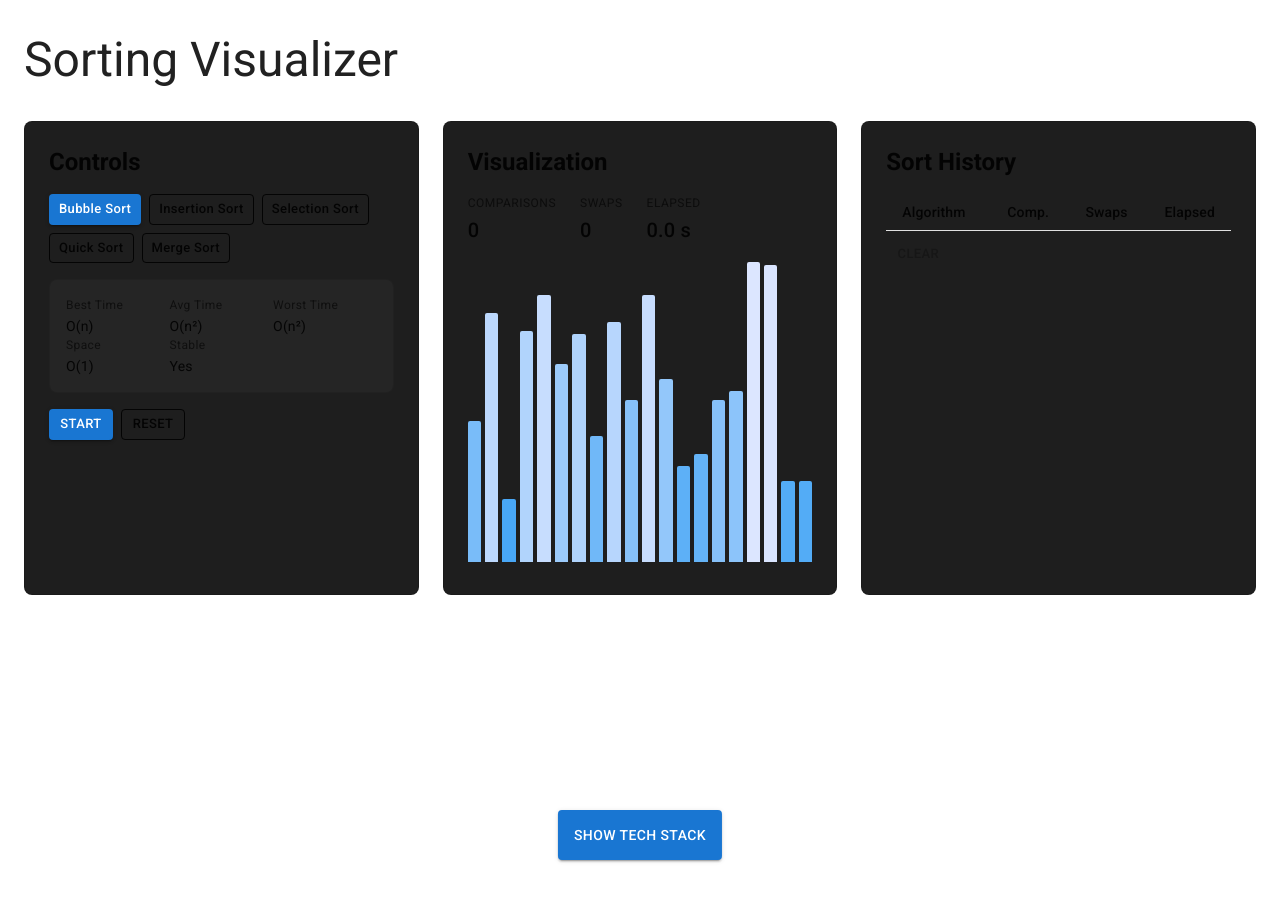
Test: Reset re-randomizes and zeroes metrics
The width and height of the screenshot is (1280, 900).
Click the button "Start". click: (81, 425)
box: x1=49 y1=409 x2=113 y2=440
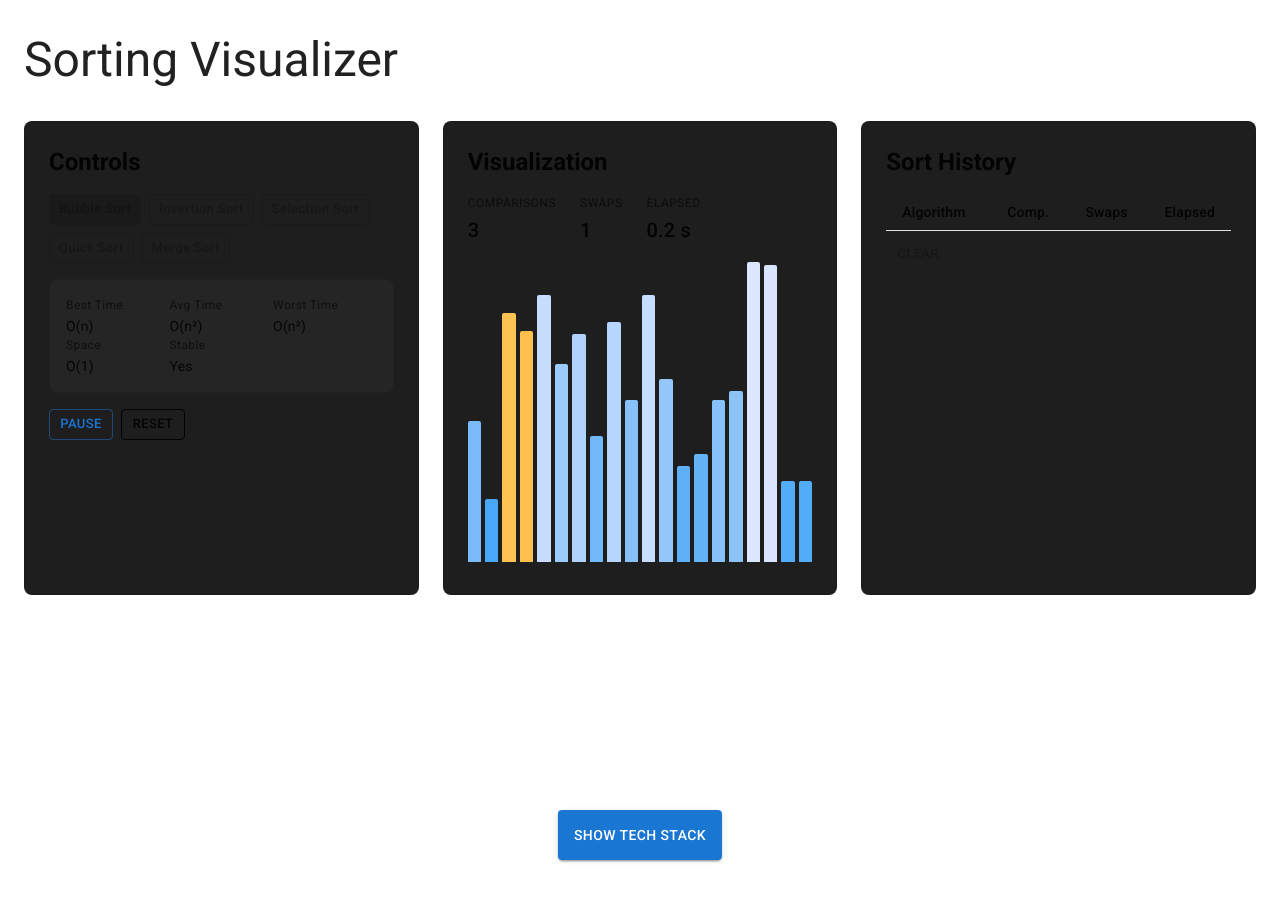
Expected: the heading with test id "metric-comparisons" does not show "0", x1=468 y1=218 x2=479 y2=242
Expected: the heading with test id "metric-swaps" does not show "0", x1=580 y1=218 x2=592 y2=242
Click the button "Reset". click: (153, 425)
box: x1=121 y1=409 x2=185 y2=440
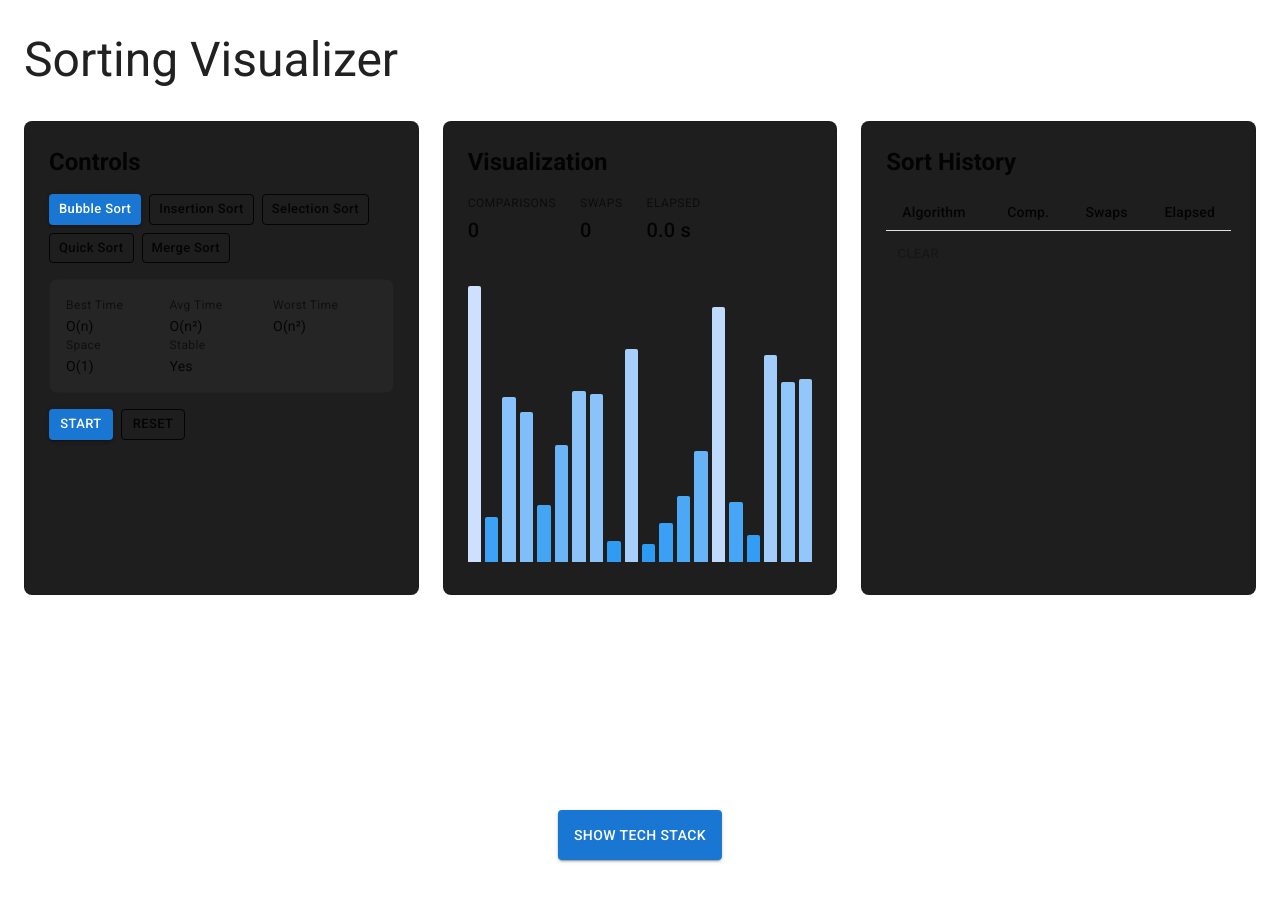
Now the heading with test id "metric-comparisons" reads "0", box x1=468 y1=218 x2=479 y2=242
Now the heading with test id "metric-swaps" reads "0", box x1=580 y1=218 x2=592 y2=242
